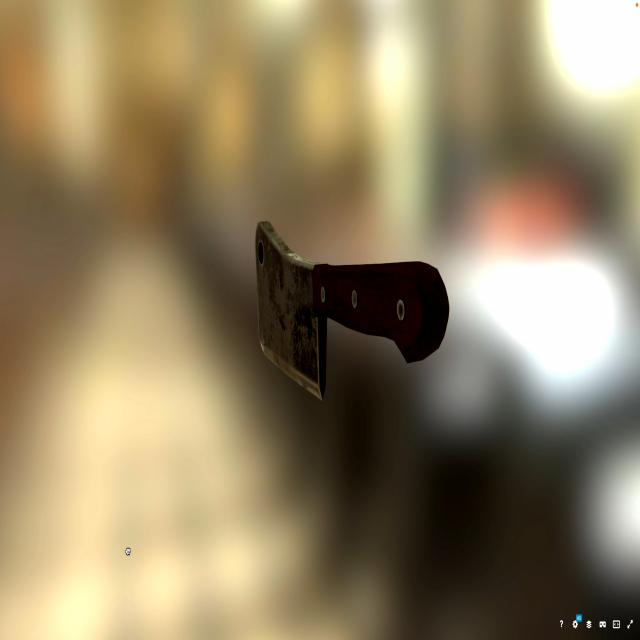cleaver: (248, 216, 456, 397)
